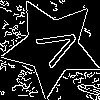V: (27, 22, 83, 73)
